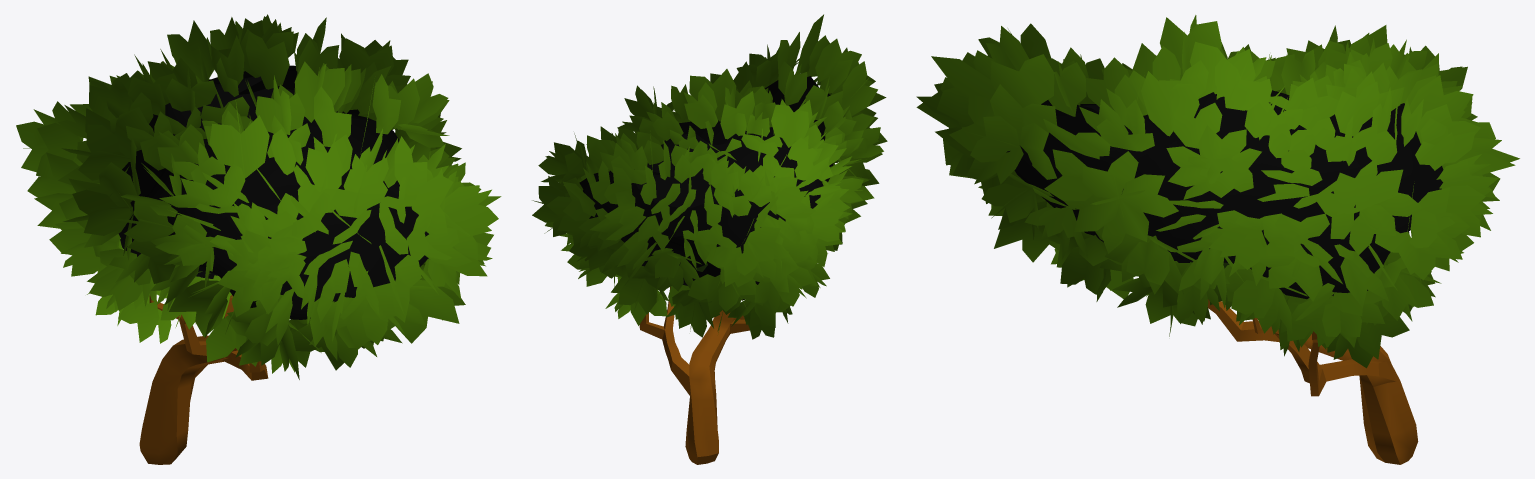
Rendered from Tree_Manzanita_fbx.fbx.
3 renders of one model, left to right at view 1: azimuth 30°, elevation 25°; view 2: azimuth 150°, elevation 25°; view 3: azimuth 270°, elevation 25°, orthographic. The views are drawn at different scales.
Visible parts, largest first — view 1: Tree_Manzanita_LOD0; view 2: Tree_Manzanita_LOD0; view 3: Tree_Manzanita_LOD0.
Part boxes in pixels (bbox=[...]): Tree_Manzanita_LOD0: bbox=[16, 14, 501, 464]; Tree_Manzanita_LOD0: bbox=[532, 14, 887, 464]; Tree_Manzanita_LOD0: bbox=[916, 15, 1519, 464].
Size of what is drawn, in the model's own units: 672 by 735 by 914.
